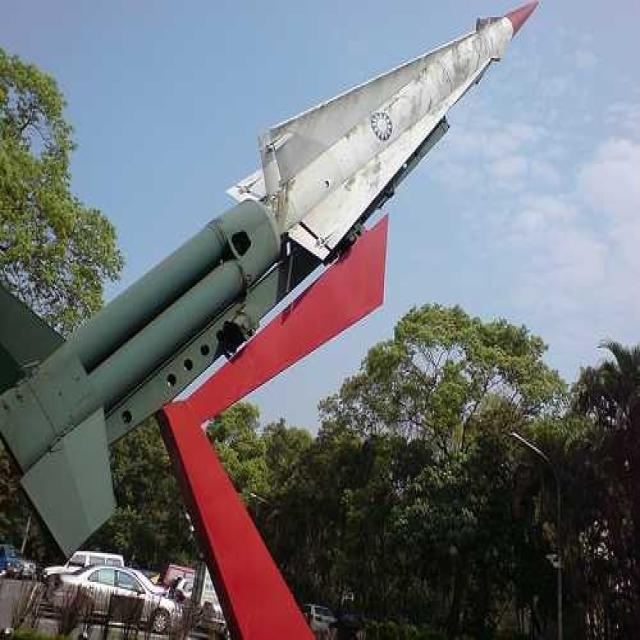missile: (224, 5, 552, 262)
